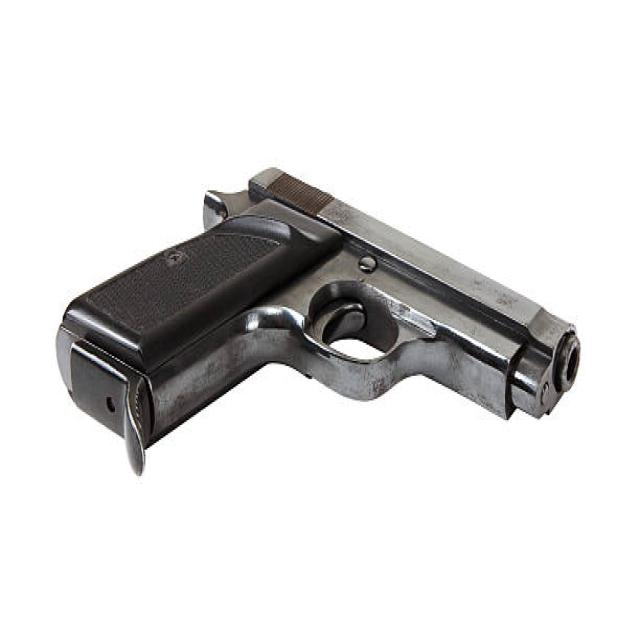pistol: (49, 146, 587, 481)
